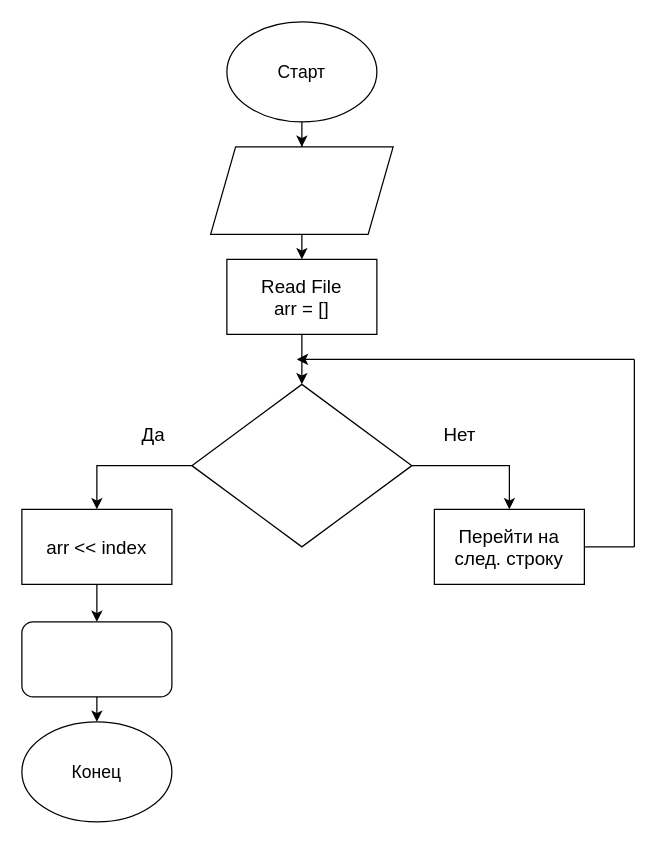
The diagram is 666 pixels wide and 844 high, and some of its shapes have lost their labels. The centre of each missing label's shape, as x and y in pixels:
"Ввод pattern" belongs at [301,190].
"Вывести arr" belongs at [96,659].
"Текущая строка = заданному pattern?" belongs at [301,465].
